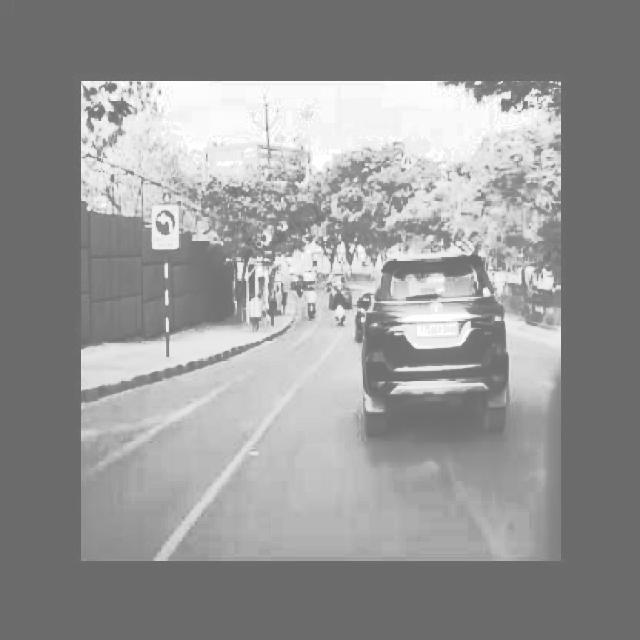Car: (349, 244, 519, 453)
